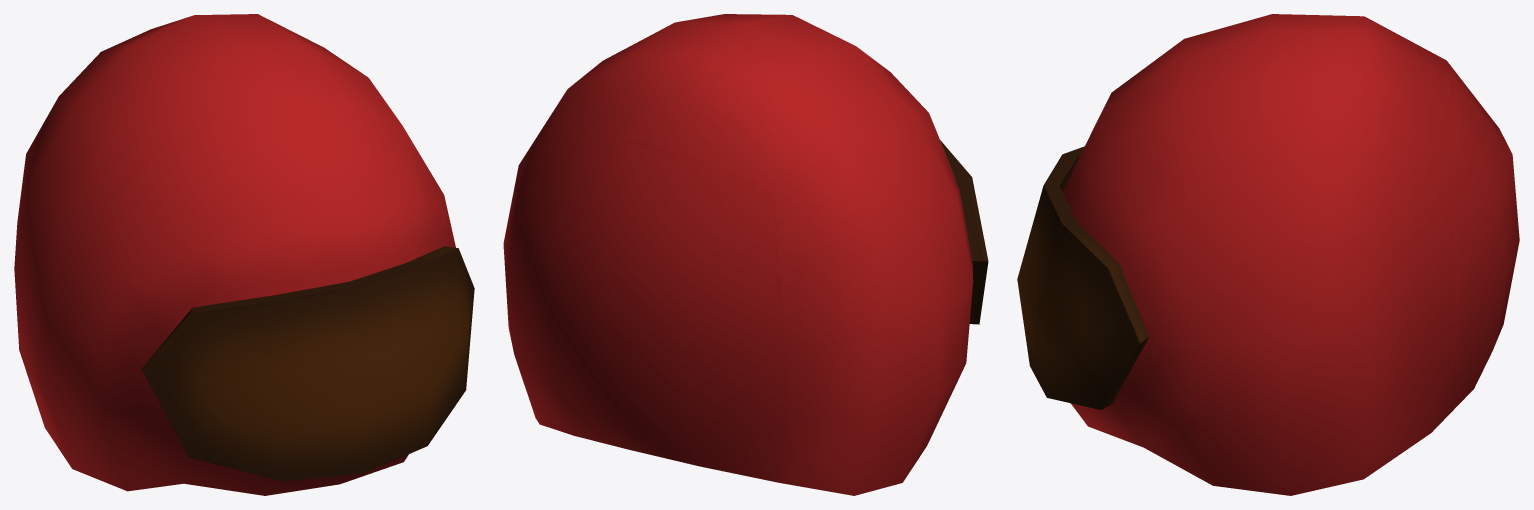
File: RacingHelmet.glb
3 renders of one model, left to right at view 1: azimuth 30°, elevation 25°; view 2: azimuth 150°, elevation 25°; view 3: azimuth 270°, elevation 25°, orthographic. The views are drawn at different scales.
Visible parts, largest first — view 1: m_Helmet02; view 2: m_Helmet02; view 3: m_Helmet02.
Boxes of the visible parts, x1=… form: m_Helmet02: x1=14, y1=14, x2=474, y2=495; m_Helmet02: x1=503, y1=14, x2=988, y2=495; m_Helmet02: x1=1017, y1=14, x2=1519, y2=495.
Bounding box in the file's own units: 0.8903 × 0.862 × 1.02.
1 material, 1 textured.
